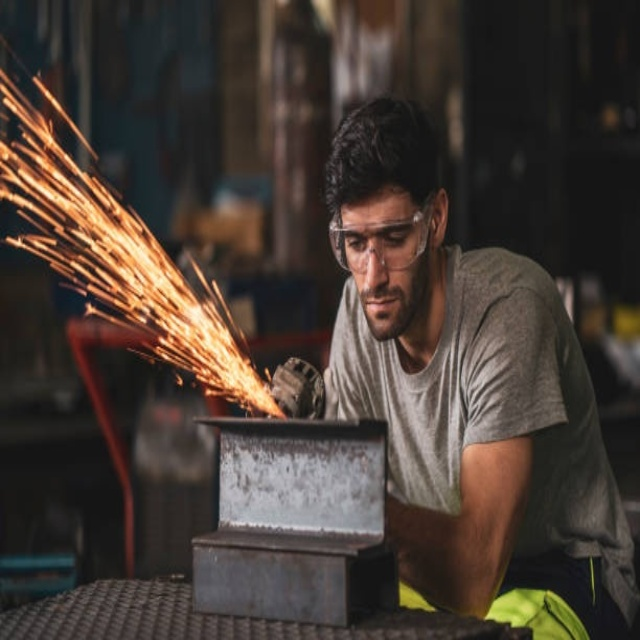Gafas: (330, 197, 433, 274)
Sin_mascara: (357, 287, 404, 333)
